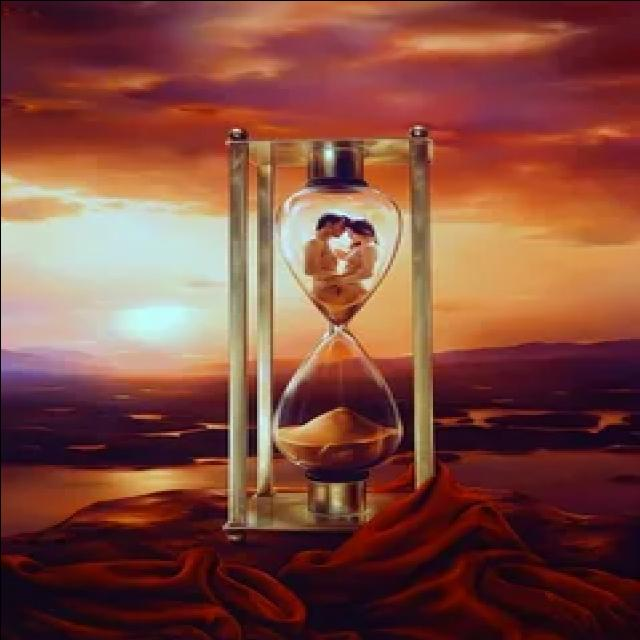clock: (210, 120, 451, 550)
